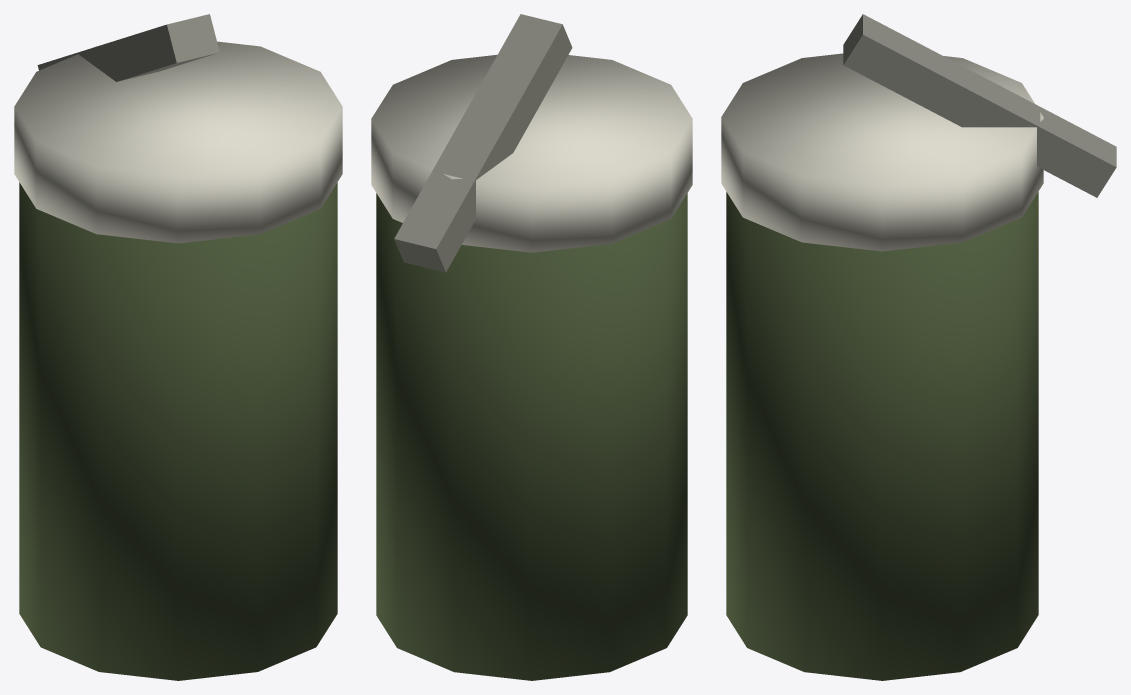
File: smoke_grenade.glb
3 views of the same model, side by side, from view 1: azimuth 30°, elevation 25°; view 2: azimuth 150°, elevation 25°; view 3: azimuth 270°, elevation 25° (orthographic). The views are drawn at different scales.
Parts seen in each view (by area): view 1: Smoke; view 2: Smoke; view 3: Smoke.
Part boxes in pixels (bbox=[...]): Smoke: bbox=[14, 14, 342, 680]; Smoke: bbox=[371, 14, 692, 680]; Smoke: bbox=[721, 14, 1116, 680].
Bounding box in the file's own units: 0.066 × 0.1335 × 0.081.
